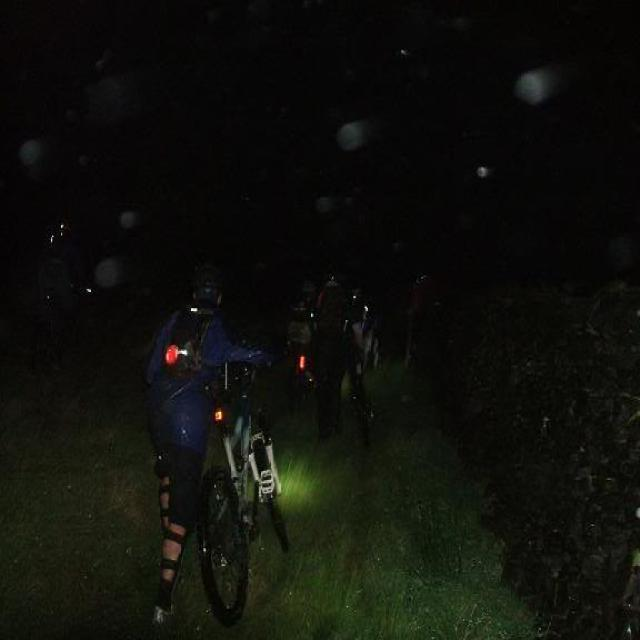Bicycle: (181, 426, 296, 639)
People: (98, 272, 276, 485), (303, 260, 345, 426)
